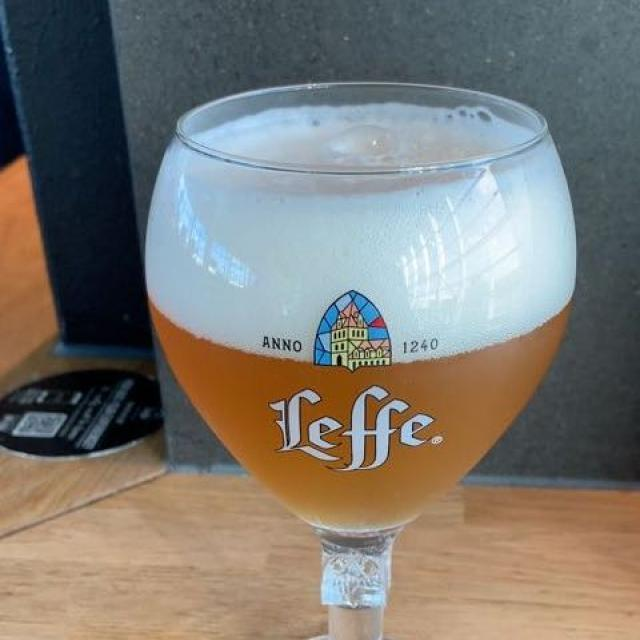beer: (159, 110, 562, 531)
